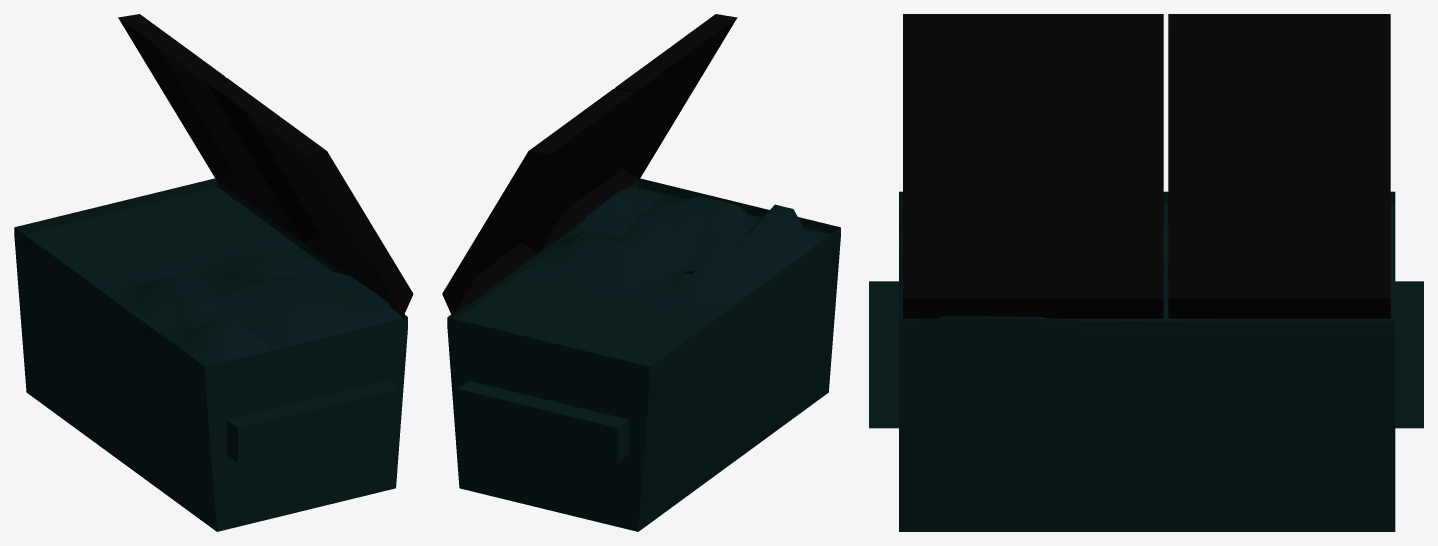
File: Dumpster2 1.fbx
3 renders of one model, left to right at view 1: azimuth 30°, elevation 25°; view 2: azimuth 150°, elevation 25°; view 3: azimuth 270°, elevation 25°, orthographic. The views are drawn at different scales.
Visible parts, largest first — view 1: Dumpster, Lid, Lid.001; view 2: Dumpster, Lid.001, Lid; view 3: Dumpster, Lid, Lid.001.
Part boxes in pixels (left/top/right/bottom): Dumpster: left=14, top=178, right=407, bottom=531; Lid: left=205, top=78, right=413, bottom=316; Lid.001: left=118, top=14, right=301, bottom=241; Dumpster: left=447, top=178, right=840, bottom=531; Lid.001: left=442, top=88, right=635, bottom=316; Lid: left=539, top=14, right=737, bottom=252; Dumpster: left=869, top=191, right=1423, bottom=531; Lid: left=903, top=14, right=1163, bottom=318; Lid.001: left=1168, top=14, right=1390, bottom=318.
Size of the model in its own units: 235 by 378 by 413.
